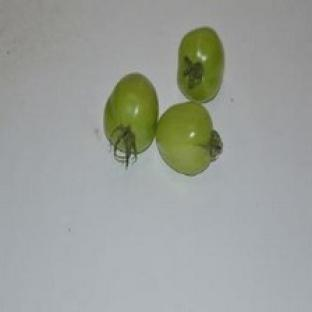Tomato: (104, 73, 158, 167), (156, 102, 222, 175), (177, 27, 224, 103)
